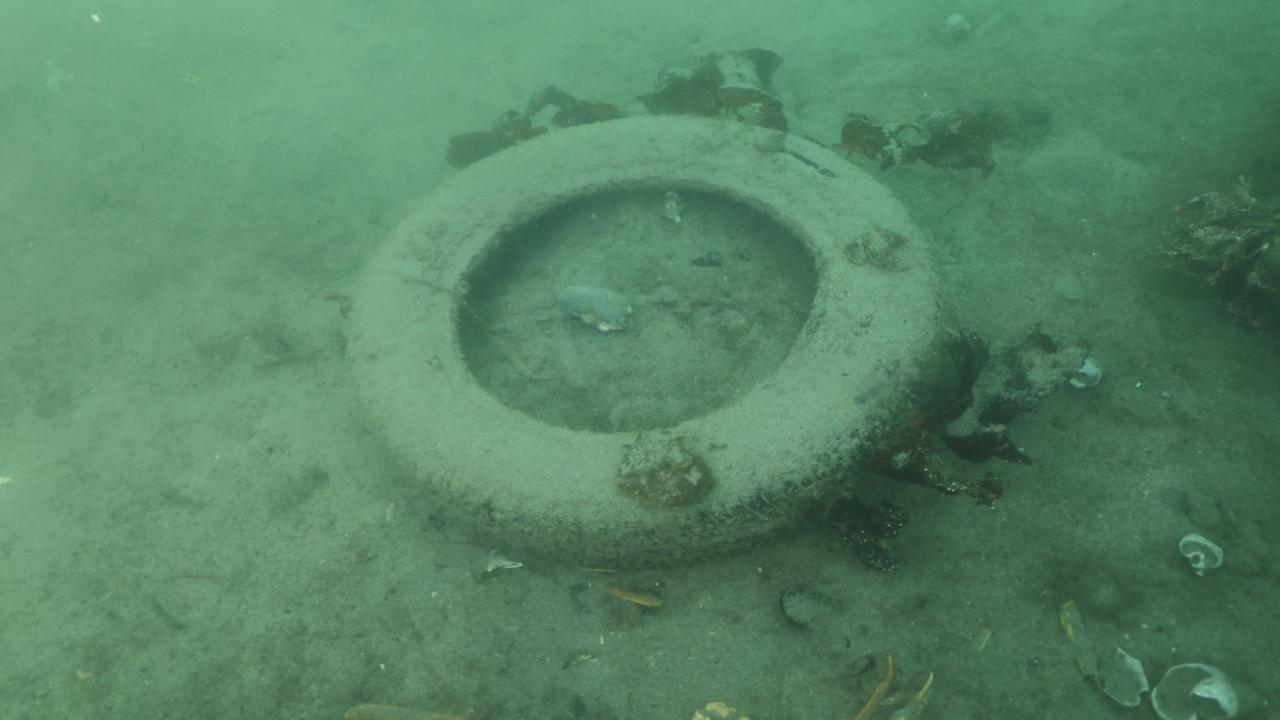tire: (343, 115, 946, 568)
